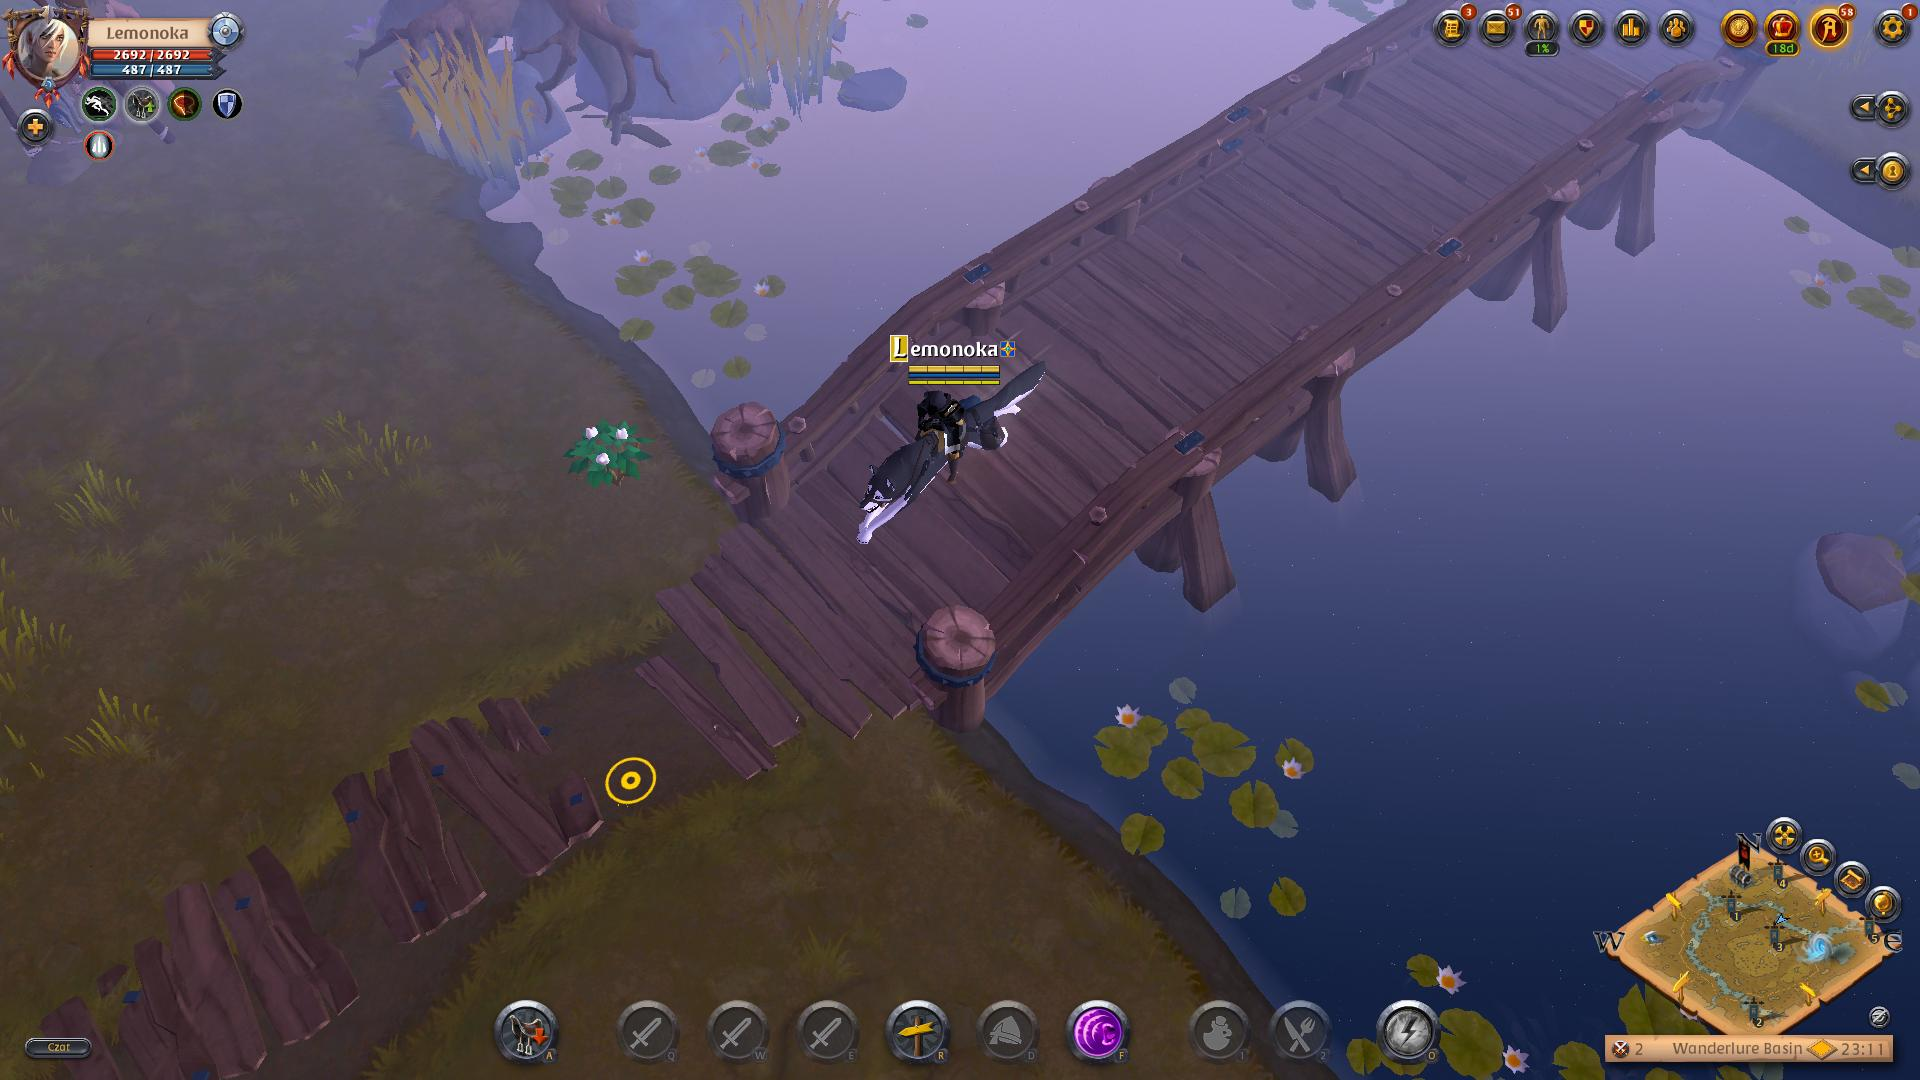fiber tier 3: (564, 413, 655, 498)
